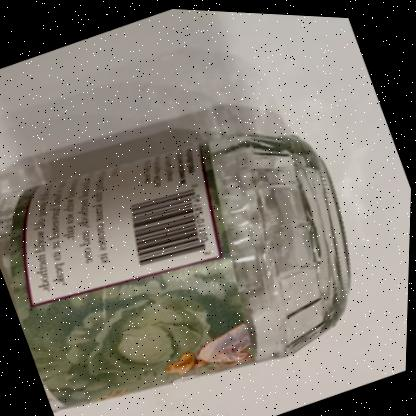Glass: (0, 128, 352, 410)
